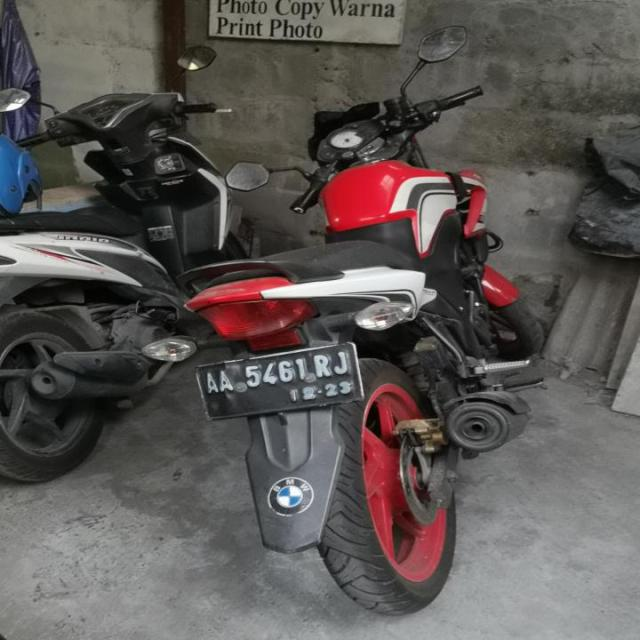License Plate: (193, 340, 363, 424)
